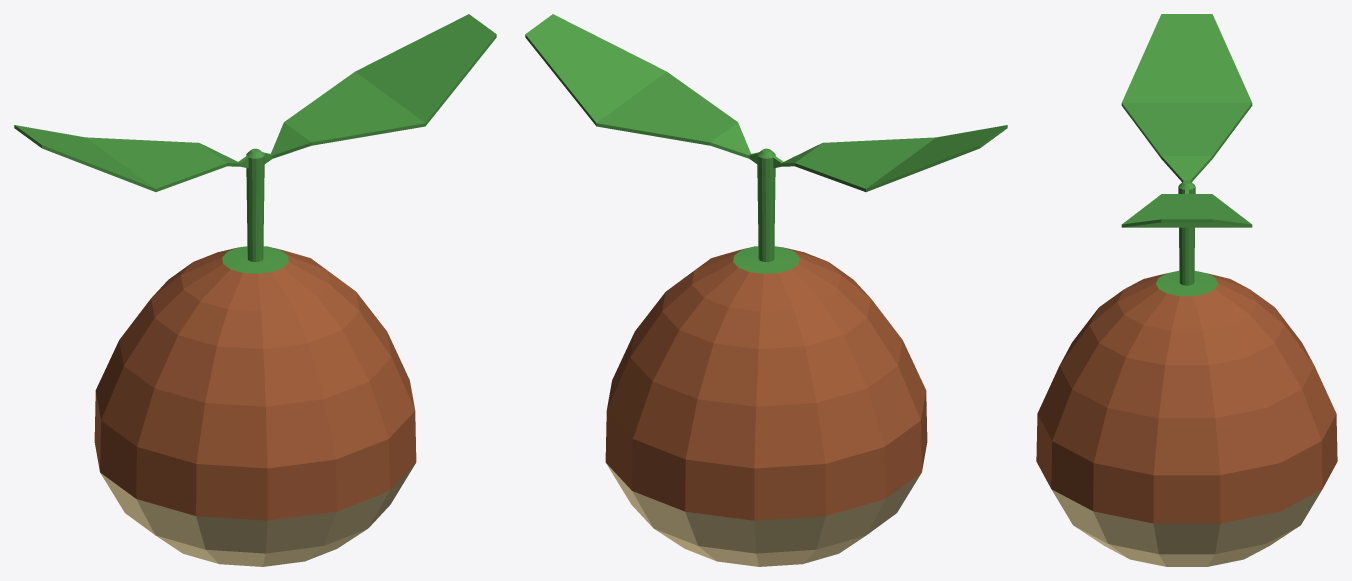
The model's file is Seed_Squares_V2.fbx.
3 renders of one model, left to right at view 1: azimuth 30°, elevation 25°; view 2: azimuth 150°, elevation 25°; view 3: azimuth 270°, elevation 25°, orthographic. The views are drawn at different scales.
Parts seen in each view (by area): view 1: Seed_V2; view 2: Seed_V2; view 3: Seed_V2.
Boxes of the visible parts, bbox=[...] form: Seed_V2: bbox=[14, 14, 496, 566]; Seed_V2: bbox=[525, 14, 1007, 566]; Seed_V2: bbox=[1036, 14, 1337, 566].
Bounding box in the file's own units: 352 × 337 × 218.
